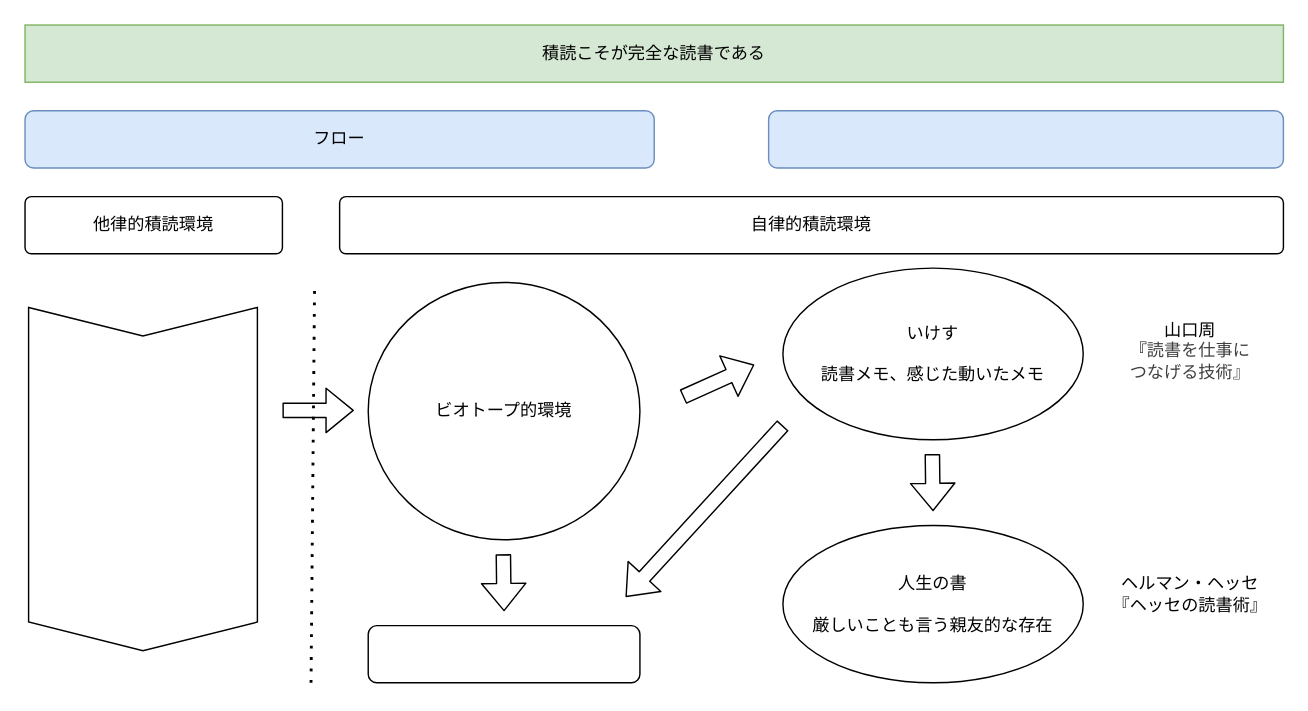
Some shapes in this 1308 by 711 pixel diagram are drawn without their labels. Each missing label, with the centre of its shape:
"ストック" goes at [1025,138].
"情報の濁流" goes at [142,478].
"手放す" goes at [503,653].
